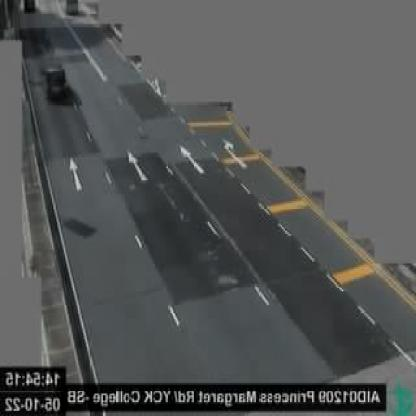Car: (44, 62, 69, 97)
